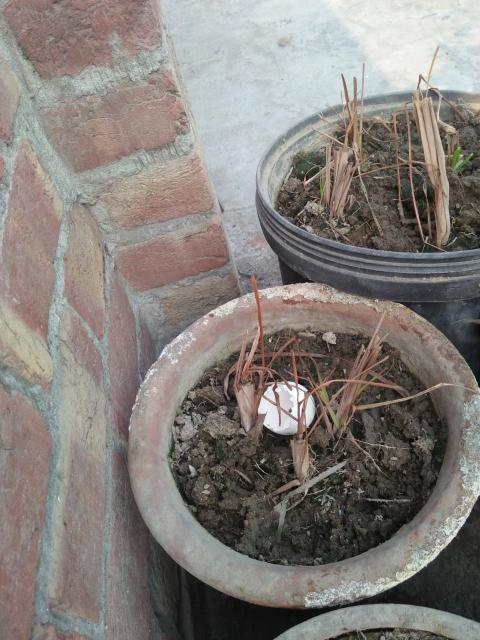Roto: (260, 380, 315, 432)
